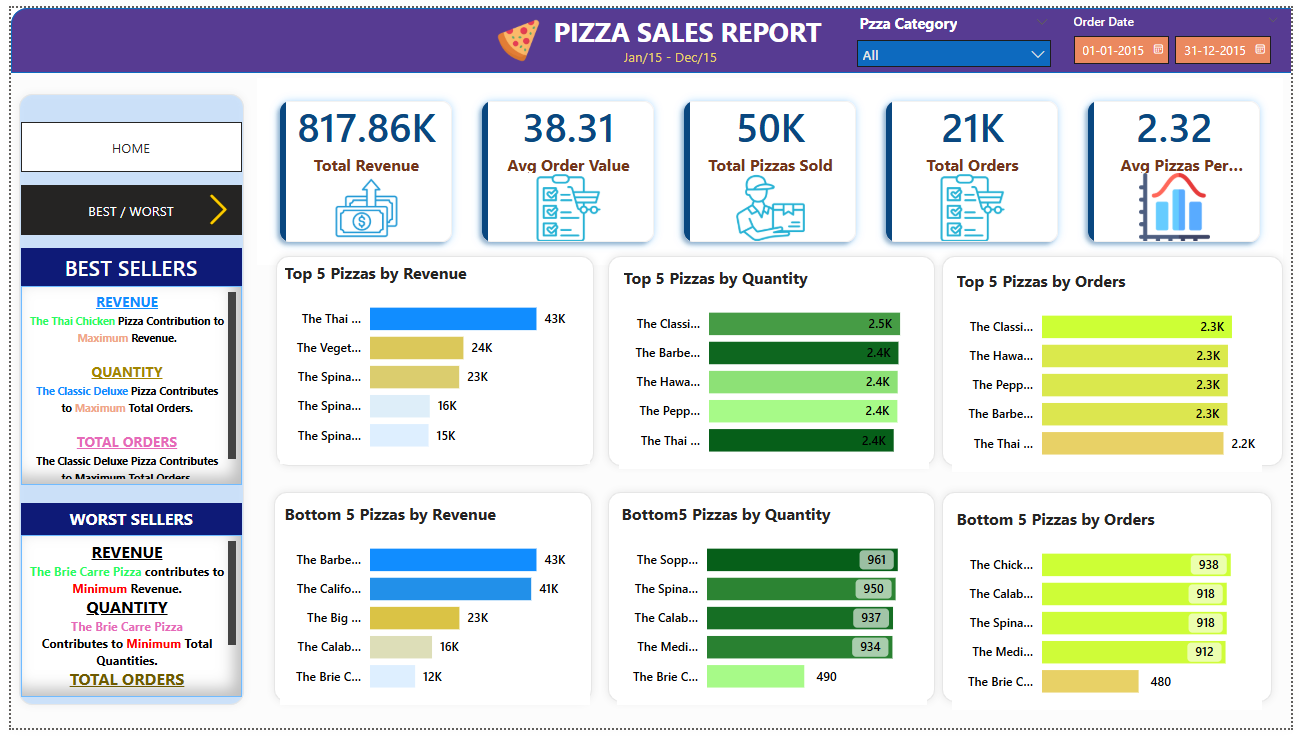

The dashboard page shown, as its layout file describes it:
{"tool":"powerbi","page":{"name":"BEST / WORST","canvas":[1280,720],"ordinal":1},"visuals":[{"type":"cardVisual","fields":{"Data":["pizza_sales.Total Revenue","pizza_sales.Avg Order Value","pizza_sales.Total Pizzas Sold","pizza_sales.Total Orders","pizza_sales.Avg Pizzas Per Order"]},"box":[241,65,1039,197],"z":0},{"type":"shape","box":[0,0,1482.6,65.3],"z":1000},{"type":"textbox","box":[537.7,0,319.2,57.1],"z":2000},{"type":"textbox","box":[608.5,35.4,127.9,42.6],"z":3000},{"type":"image","box":[486,7.3,42.6,49.9],"z":4000},{"type":"shape","box":[257,240,334,226],"z":5000},{"type":"shape","box":[0,78,241.2,626.6],"z":6000},{"type":"textbox","box":[10,240,221,38],"z":7000},{"type":"textbox","box":[10,278,221,199],"z":8000},{"type":"textbox","box":[10,495,221,32],"z":9000},{"type":"textbox","box":[10,527,221,162],"z":10000},{"type":"slicer","fields":{"Values":["pizza_sales.pizza_category"]},"box":[836,0,214,62],"z":11000},{"type":"slicer","fields":{"Values":["pizza_sales.order_date"]},"box":[1050,0,230,78],"z":12000},{"type":"shape","box":[923,240,357,226],"z":13000},{"type":"shape","box":[589,240,343,226],"z":14000},{"type":"shape","box":[255,476,334,226],"z":15000},{"type":"shape","box":[589,476,343,226],"z":16000},{"type":"shape","box":[923,476,346,226],"z":17000},{"type":"barChart","title":"Top 5 Pizzas by Revenue","fields":{"Category":["pizza_sales.pizza_name"],"Y":["pizza_sales.Total Revenue"]},"box":[269,254,310,202],"z":18000},{"type":"barChart","title":"Bottom 5 Pizzas by Revenue","fields":{"Category":["pizza_sales.pizza_name"],"Y":["pizza_sales.Total Revenue"]},"box":[269,495,310,202],"z":19000},{"type":"barChart","title":"Top 5 Pizzas by Quantity","fields":{"Category":["pizza_sales.pizza_name"],"Y":["pizza_sales.Total Pizzas Sold"]},"box":[608,259,310,202],"z":20000},{"type":"barChart","title":"Bottom5 Pizzas by Quantity","fields":{"Category":["pizza_sales.pizza_name"],"Y":["pizza_sales.Total Pizzas Sold"]},"box":[606,495,310,202],"z":21000},{"type":"barChart","title":"Top 5 Pizzas by Orders","fields":{"Category":["pizza_sales.pizza_name"],"Y":["pizza_sales.Total Orders"]},"box":[941,262,310,202],"z":22000},{"type":"barChart","title":"Bottom 5 Pizzas by Orders","fields":{"Category":["pizza_sales.pizza_name"],"Y":["pizza_sales.Total Orders"]},"box":[941,500,310,202],"z":23000},{"type":"pageNavigator","box":[10,177,221,50],"z":24000},{"type":"pageNavigator","box":[10,114,221,50],"z":25000}]}

Visuals, with their boxes in screenshot pixels (x1, y1, x2, y2), scaled from the page's 1280x720 canvas onto the 1304x739 screenshot:
cardVisual - pizza_sales.Total Revenue x pizza_sales.Avg Order Value: {"left": 246, "top": 67, "right": 1303, "bottom": 269}
shape: {"left": 0, "top": 0, "right": 1303, "bottom": 67}
textbox: {"left": 548, "top": 0, "right": 873, "bottom": 59}
textbox: {"left": 620, "top": 36, "right": 750, "bottom": 80}
image: {"left": 495, "top": 7, "right": 539, "bottom": 59}
shape: {"left": 262, "top": 246, "right": 602, "bottom": 478}
shape: {"left": 0, "top": 80, "right": 246, "bottom": 723}
textbox: {"left": 10, "top": 246, "right": 235, "bottom": 285}
textbox: {"left": 10, "top": 285, "right": 235, "bottom": 490}
textbox: {"left": 10, "top": 508, "right": 235, "bottom": 541}
textbox: {"left": 10, "top": 541, "right": 235, "bottom": 707}
slicer - pizza_sales.pizza_category: {"left": 852, "top": 0, "right": 1070, "bottom": 64}
slicer - pizza_sales.order_date: {"left": 1070, "top": 0, "right": 1303, "bottom": 80}
shape: {"left": 940, "top": 246, "right": 1303, "bottom": 478}
shape: {"left": 600, "top": 246, "right": 949, "bottom": 478}
shape: {"left": 260, "top": 489, "right": 600, "bottom": 721}
shape: {"left": 600, "top": 489, "right": 949, "bottom": 721}
shape: {"left": 940, "top": 489, "right": 1293, "bottom": 721}
"Top 5 Pizzas by Revenue" barChart: {"left": 274, "top": 261, "right": 590, "bottom": 468}
"Bottom 5 Pizzas by Revenue" barChart: {"left": 274, "top": 508, "right": 590, "bottom": 715}
"Top 5 Pizzas by Quantity" barChart: {"left": 619, "top": 266, "right": 935, "bottom": 473}
"Bottom5 Pizzas by Quantity" barChart: {"left": 617, "top": 508, "right": 933, "bottom": 715}
"Top 5 Pizzas by Orders" barChart: {"left": 959, "top": 269, "right": 1274, "bottom": 476}
"Bottom 5 Pizzas by Orders" barChart: {"left": 959, "top": 513, "right": 1274, "bottom": 721}
pageNavigator: {"left": 10, "top": 182, "right": 235, "bottom": 233}
pageNavigator: {"left": 10, "top": 117, "right": 235, "bottom": 168}
